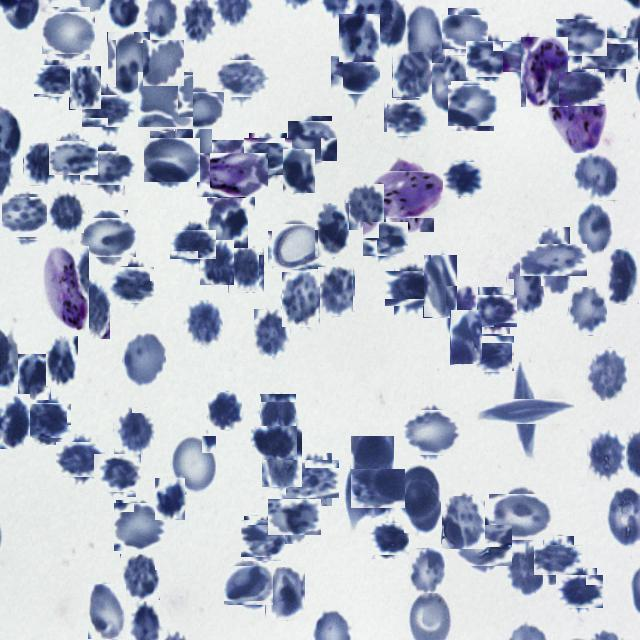difficult: (43, 246, 89, 331), (379, 164, 441, 225)
red blood cell: (494, 380, 556, 442), (494, 489, 550, 545), (138, 72, 194, 127), (170, 436, 216, 496), (107, 32, 150, 96), (405, 407, 457, 459), (272, 221, 324, 273), (114, 501, 166, 552), (146, 134, 198, 185), (458, 520, 508, 570), (528, 236, 578, 286), (350, 436, 394, 492), (122, 333, 166, 388), (584, 348, 628, 402), (441, 496, 485, 550), (432, 56, 472, 114), (262, 429, 302, 487), (84, 214, 132, 262), (44, 10, 92, 58), (354, 465, 402, 513), (406, 4, 445, 63), (572, 153, 619, 201), (587, 426, 626, 482), (265, 567, 305, 621), (507, 546, 547, 600), (423, 255, 457, 318), (450, 83, 496, 129), (577, 201, 615, 256), (282, 272, 320, 327), (88, 584, 126, 639), (218, 56, 264, 101), (290, 457, 336, 502), (400, 467, 439, 520), (506, 260, 544, 314), (207, 198, 248, 248), (85, 146, 130, 191), (272, 495, 317, 540), (290, 118, 334, 164), (226, 564, 272, 608), (78, 276, 110, 339), (603, 249, 639, 305), (113, 407, 154, 456), (404, 479, 441, 533), (560, 15, 604, 60), (142, 40, 184, 87), (339, 14, 380, 62), (177, 89, 221, 133), (390, 266, 434, 310), (333, 53, 377, 97), (588, 32, 632, 76), (314, 203, 349, 258), (568, 287, 607, 336), (317, 267, 355, 317), (120, 554, 160, 601), (184, 300, 223, 348), (59, 438, 102, 481), (2, 196, 46, 238), (86, 90, 130, 132), (392, 52, 432, 98), (174, 129, 212, 177), (26, 399, 68, 442), (247, 136, 290, 178), (95, 452, 138, 494), (52, 137, 94, 179), (450, 310, 482, 365), (346, 184, 384, 230), (111, 264, 152, 306), (469, 38, 510, 80), (408, 548, 445, 594), (254, 309, 290, 356), (242, 518, 283, 559), (0, 392, 30, 448), (228, 248, 264, 293), (446, 286, 477, 338), (445, 12, 485, 52), (472, 334, 512, 374), (560, 572, 600, 612), (365, 219, 405, 259), (538, 540, 578, 580), (46, 336, 78, 386), (474, 290, 514, 330), (386, 98, 426, 138), (562, 69, 602, 109), (250, 426, 297, 460), (200, 240, 234, 285), (18, 354, 51, 400), (282, 149, 315, 194), (260, 394, 296, 435), (444, 160, 482, 198), (508, 38, 546, 76), (174, 226, 212, 264), (48, 193, 84, 233), (69, 66, 101, 110), (37, 62, 74, 100), (23, 143, 55, 186), (208, 392, 242, 430), (371, 520, 406, 556), (155, 478, 185, 520)
trophozoite: (520, 37, 568, 108), (204, 146, 262, 204), (550, 90, 604, 151)
